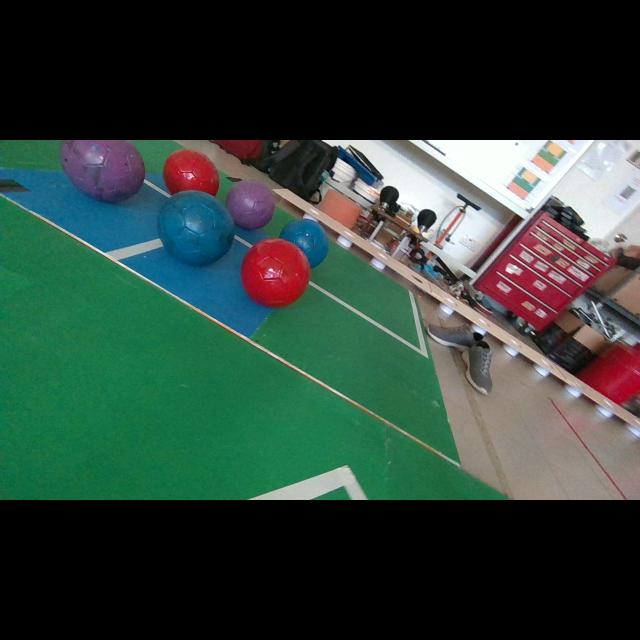B: (158, 190, 234, 266), (280, 219, 329, 267)
P: (60, 140, 145, 202), (226, 180, 275, 230)
R: (241, 238, 311, 307), (162, 149, 219, 196)
